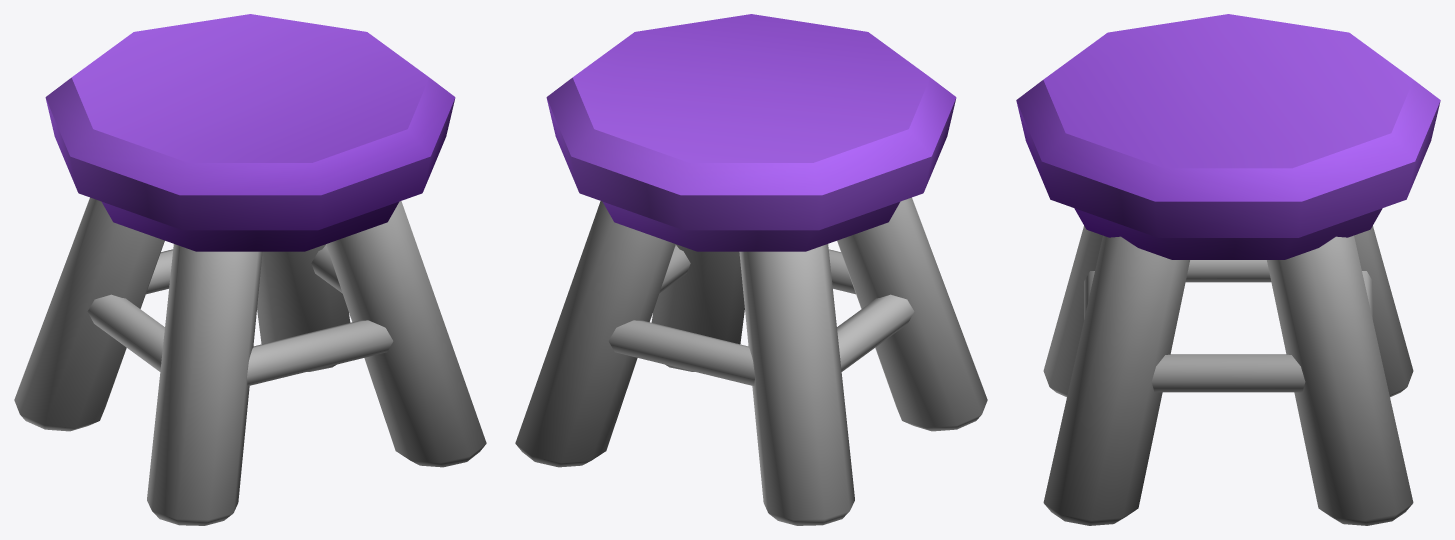
Rendered from Chair_1.glb.
The picture shows the model from 3 angles, left to right: view 1: azimuth 30°, elevation 25°; view 2: azimuth 150°, elevation 25°; view 3: azimuth 270°, elevation 25°; orthographic projection. The views are drawn at different scales.
Visible parts, largest first — view 1: Chair_1; view 2: Chair_1; view 3: Chair_1.
Part boxes in pixels (x1=…): Chair_1: x1=14, y1=14, x2=486, y2=525; Chair_1: x1=515, y1=14, x2=987, y2=525; Chair_1: x1=1016, y1=14, x2=1440, y2=525.
Bounding box in the file's own units: 0.6136 × 0.5803 × 0.6231.
1 material, 1 textured.
